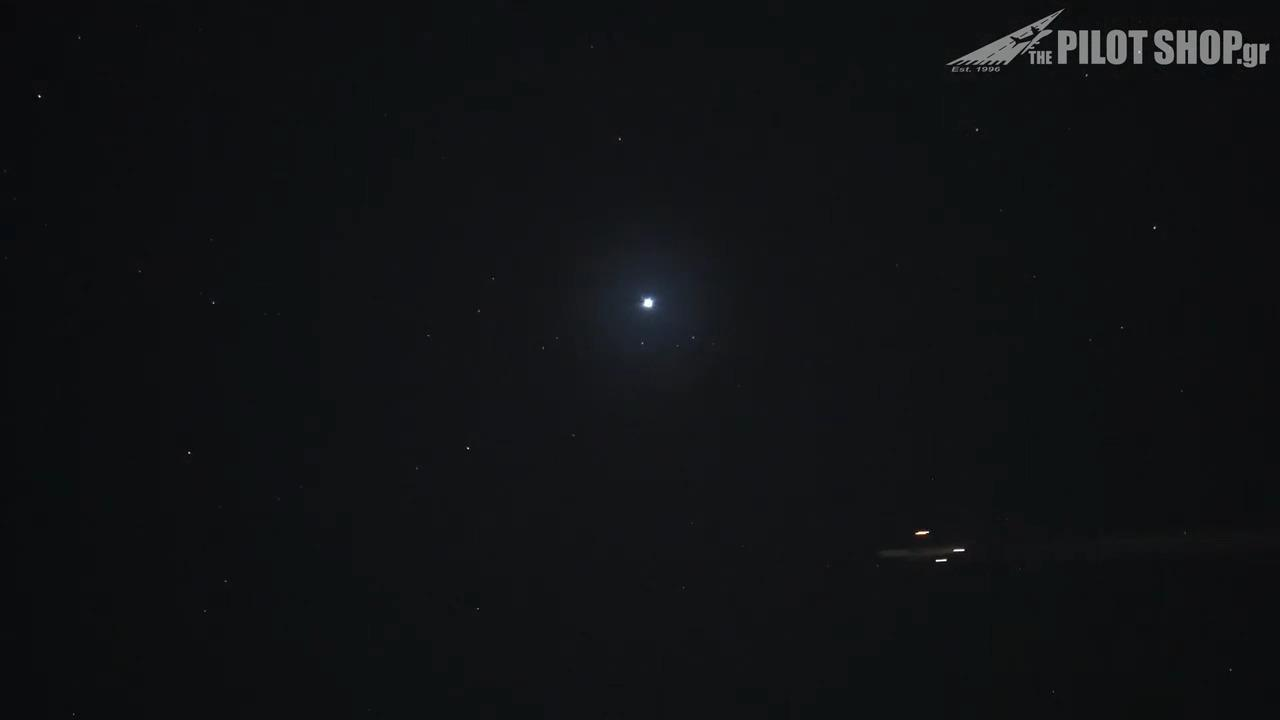Plane: (843, 518, 993, 577)
